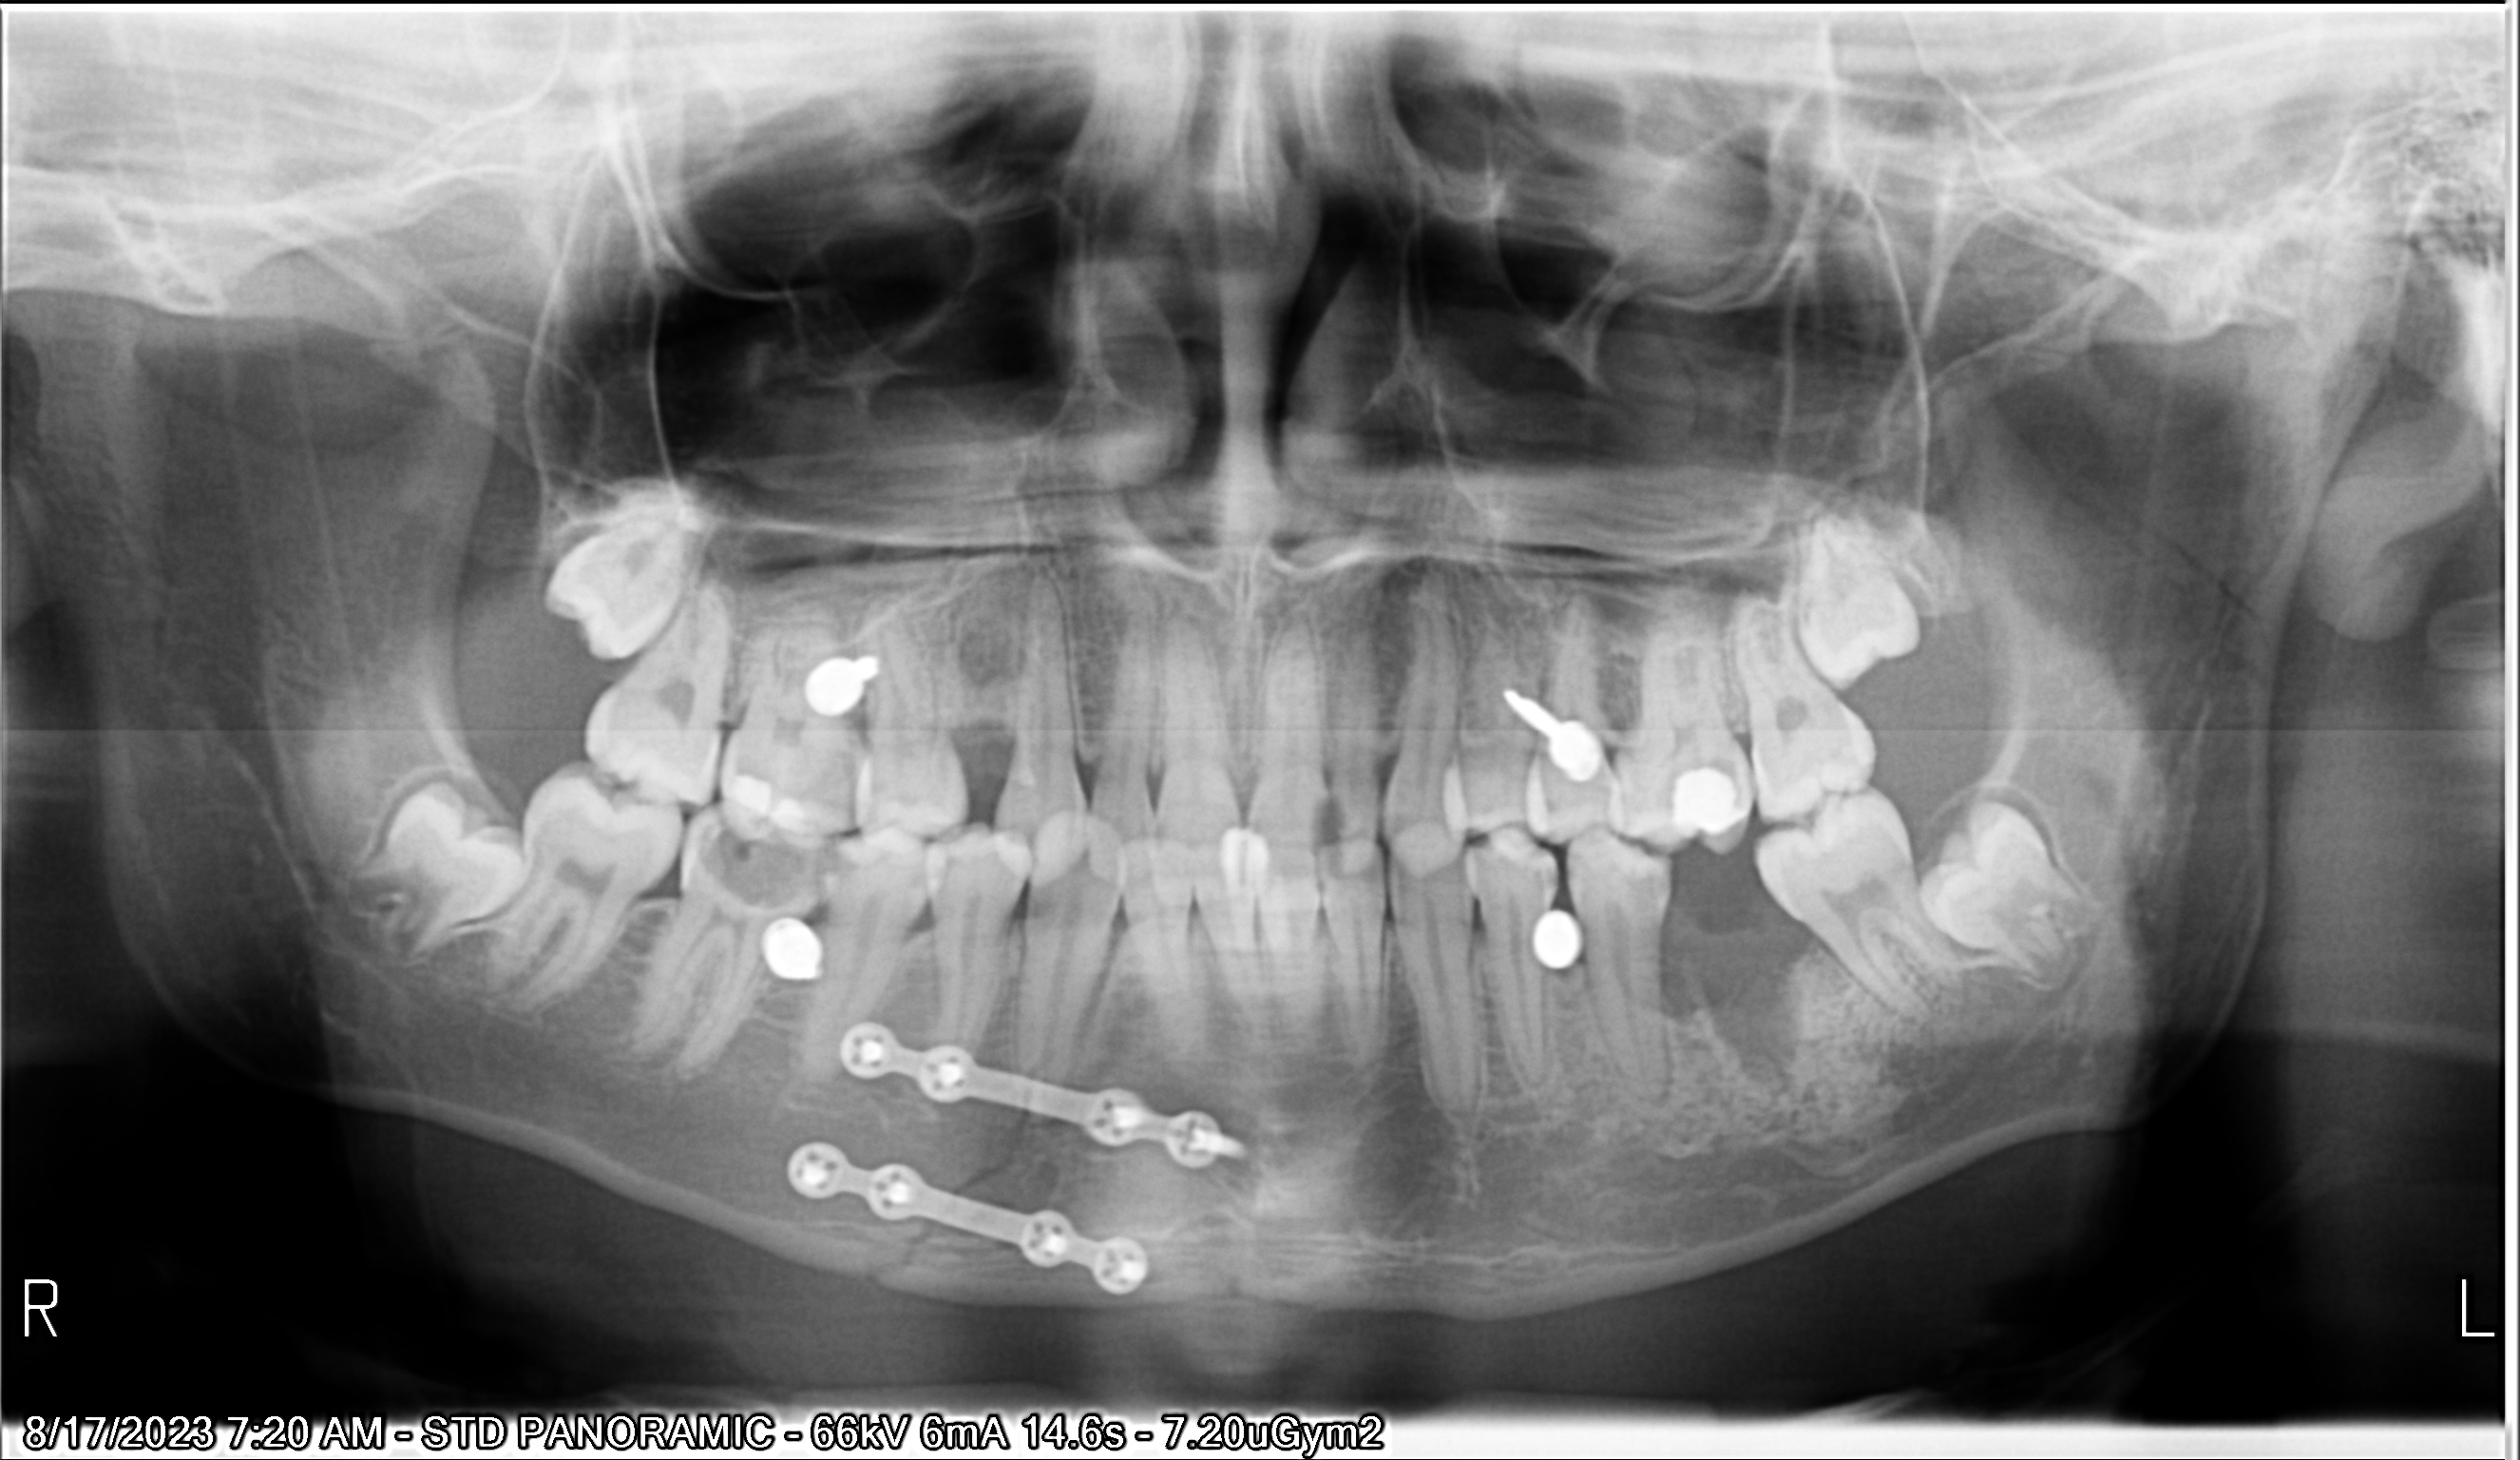CAR: (695, 803, 811, 911), (1299, 772, 1363, 862), (811, 831, 891, 890), (1521, 845, 1573, 914)
IMT: (1895, 786, 2129, 999), (314, 775, 552, 980), (1770, 473, 1924, 700), (519, 504, 722, 664)
OBT: (1664, 754, 1754, 839), (702, 760, 790, 831)
SRD: (743, 1112, 1190, 1323), (834, 1006, 1290, 1192), (1485, 671, 1626, 789), (783, 629, 912, 740), (1514, 892, 1601, 1001), (754, 904, 842, 1006)
